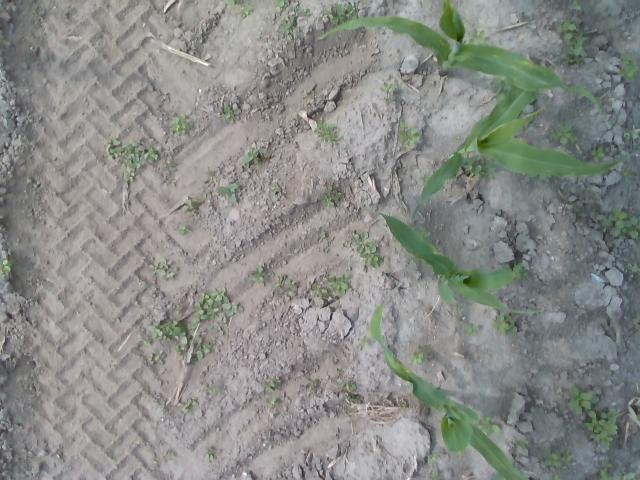Maize: (314, 0, 608, 120), (410, 78, 640, 222), (368, 300, 536, 480), (356, 204, 543, 317)
Weeds: (188, 287, 238, 334), (104, 138, 160, 168), (553, 19, 588, 64), (582, 409, 618, 448), (601, 206, 640, 242), (350, 232, 384, 269), (147, 317, 188, 346), (280, 4, 313, 36), (566, 384, 600, 414), (461, 157, 497, 180), (322, 2, 356, 25), (313, 117, 340, 144), (542, 446, 575, 468), (396, 120, 421, 148), (618, 51, 640, 82), (189, 337, 214, 364), (548, 124, 578, 146), (492, 74, 514, 104), (147, 258, 175, 280), (490, 314, 518, 335), (501, 262, 528, 282), (328, 272, 350, 294), (478, 413, 500, 435), (320, 186, 342, 207), (216, 183, 238, 203), (272, 275, 296, 293), (170, 114, 191, 134), (408, 222, 430, 241), (241, 147, 267, 163), (248, 264, 266, 283), (466, 27, 486, 44), (594, 460, 611, 480), (311, 282, 330, 299), (379, 80, 396, 98), (263, 376, 282, 392), (454, 298, 472, 314), (622, 164, 636, 184), (182, 398, 198, 415), (411, 348, 428, 364), (0, 257, 15, 275), (591, 146, 605, 164), (182, 198, 200, 212), (336, 378, 356, 390), (150, 348, 166, 361), (514, 438, 530, 451), (462, 322, 478, 335), (623, 128, 640, 140), (221, 106, 235, 120), (528, 174, 552, 182), (344, 391, 361, 402), (240, 4, 252, 19), (617, 471, 637, 480), (204, 447, 216, 460), (626, 262, 640, 273), (164, 160, 176, 172), (123, 171, 136, 182), (174, 224, 188, 234), (634, 312, 640, 335), (360, 335, 370, 348), (490, 472, 506, 480), (571, 0, 583, 10), (265, 397, 280, 405), (138, 335, 150, 345), (270, 186, 282, 196), (274, 0, 289, 8), (426, 452, 436, 464), (206, 386, 219, 395), (430, 469, 440, 480), (548, 474, 565, 480), (420, 173, 430, 182), (225, 0, 236, 8), (174, 304, 182, 314), (572, 204, 580, 212), (175, 345, 183, 353), (636, 406, 640, 422), (454, 134, 462, 140), (337, 369, 343, 374)
